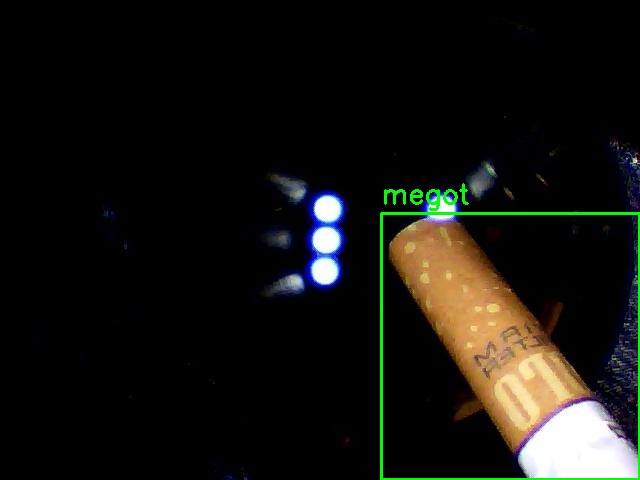megot: (381, 213, 639, 479)
